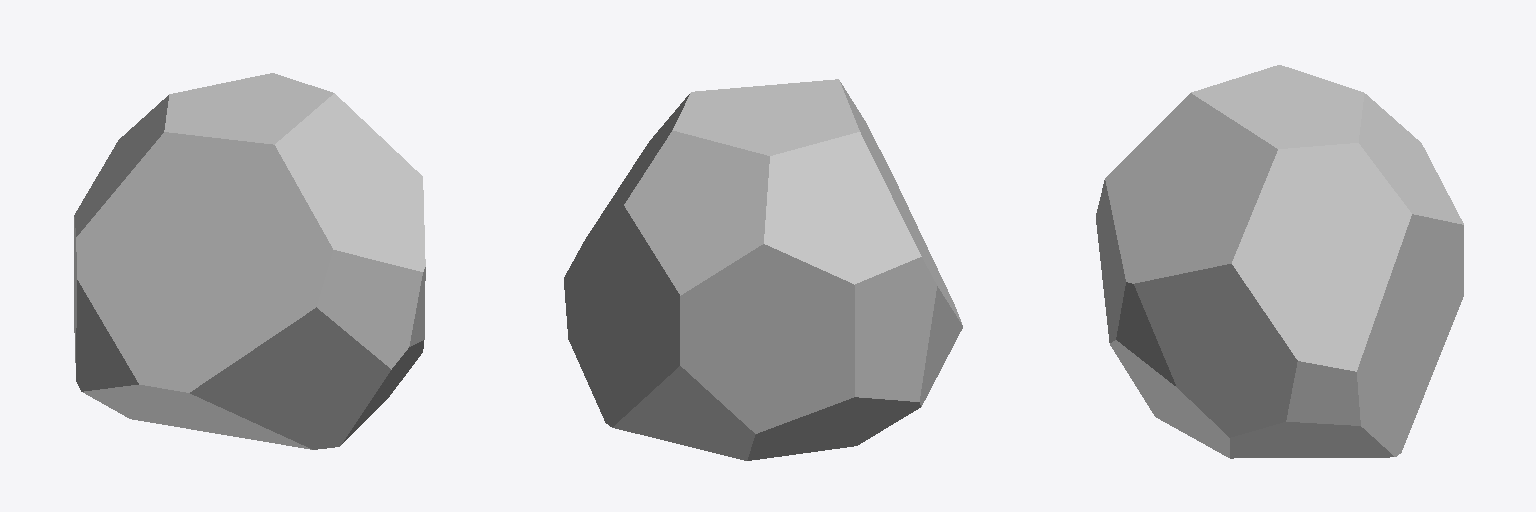
The model's file is middleStone2.obj.
The picture shows the model from 3 angles: view 1: azimuth 30°, elevation 25°; view 2: azimuth 150°, elevation 25°; view 3: azimuth 270°, elevation 25°; orthographic projection.
Visible parts, largest first — view 1: Cube_004; view 2: Cube_004; view 3: Cube_004.
Part boxes in pixels (x1,y1,x2,y2): Cube_004: (74, 73, 425, 449); Cube_004: (564, 79, 962, 460); Cube_004: (1096, 65, 1463, 458).
Bounding box in the file's own units: 90.65 × 74.8 × 83.08.